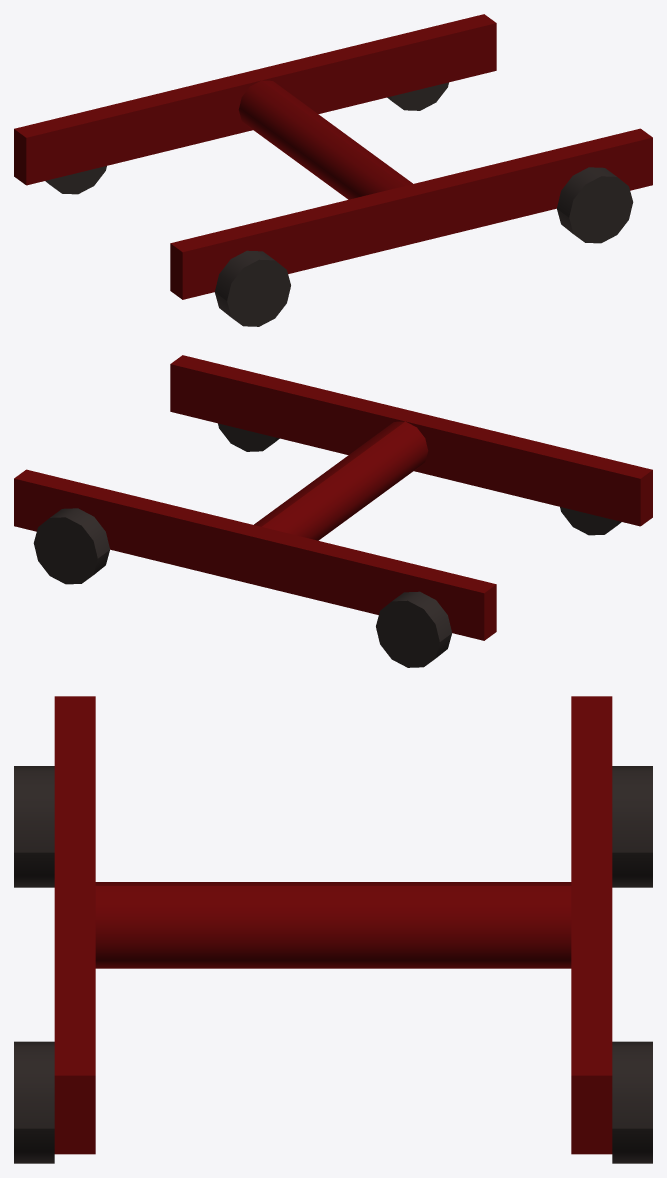
The model's file is cart.dae.
3 views of the same model, one above another, from view 1: azimuth 30°, elevation 25°; view 2: azimuth 150°, elevation 25°; view 3: azimuth 270°, elevation 25° (orthographic). The views are drawn at different scales.
Visible parts, largest first — view 1: group_0 (×5); view 2: group_0 (×5); view 3: group_0 (×5).
Boxes of the visible parts, x1,y1,x2,y2 form: group_0 (×5): (14, 14, 652, 326); group_0 (×5): (14, 355, 652, 667); group_0 (×5): (14, 696, 652, 1163).
Bounding box in the file's own units: 2640 × 1880 × 436.
